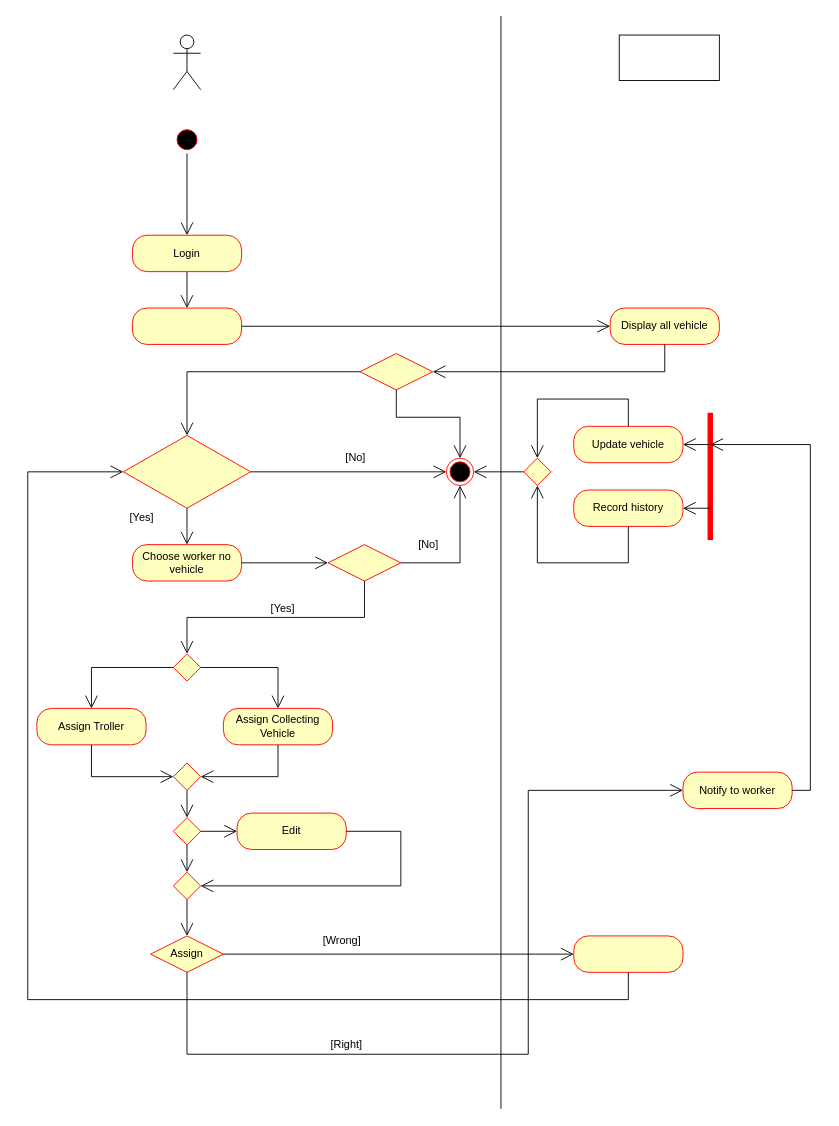
This 839x1126 diagram has some shape labels left out. Here are the shapes that lost their labels. From the top down, the centre of each, then its label:
[186,62]: Back Office
[668,57]: <<actor>> UWC 2.0 system
[186,325]: View all vehicle
[186,471]: Check vehicle available
[628,953]: Notify wrong assign
